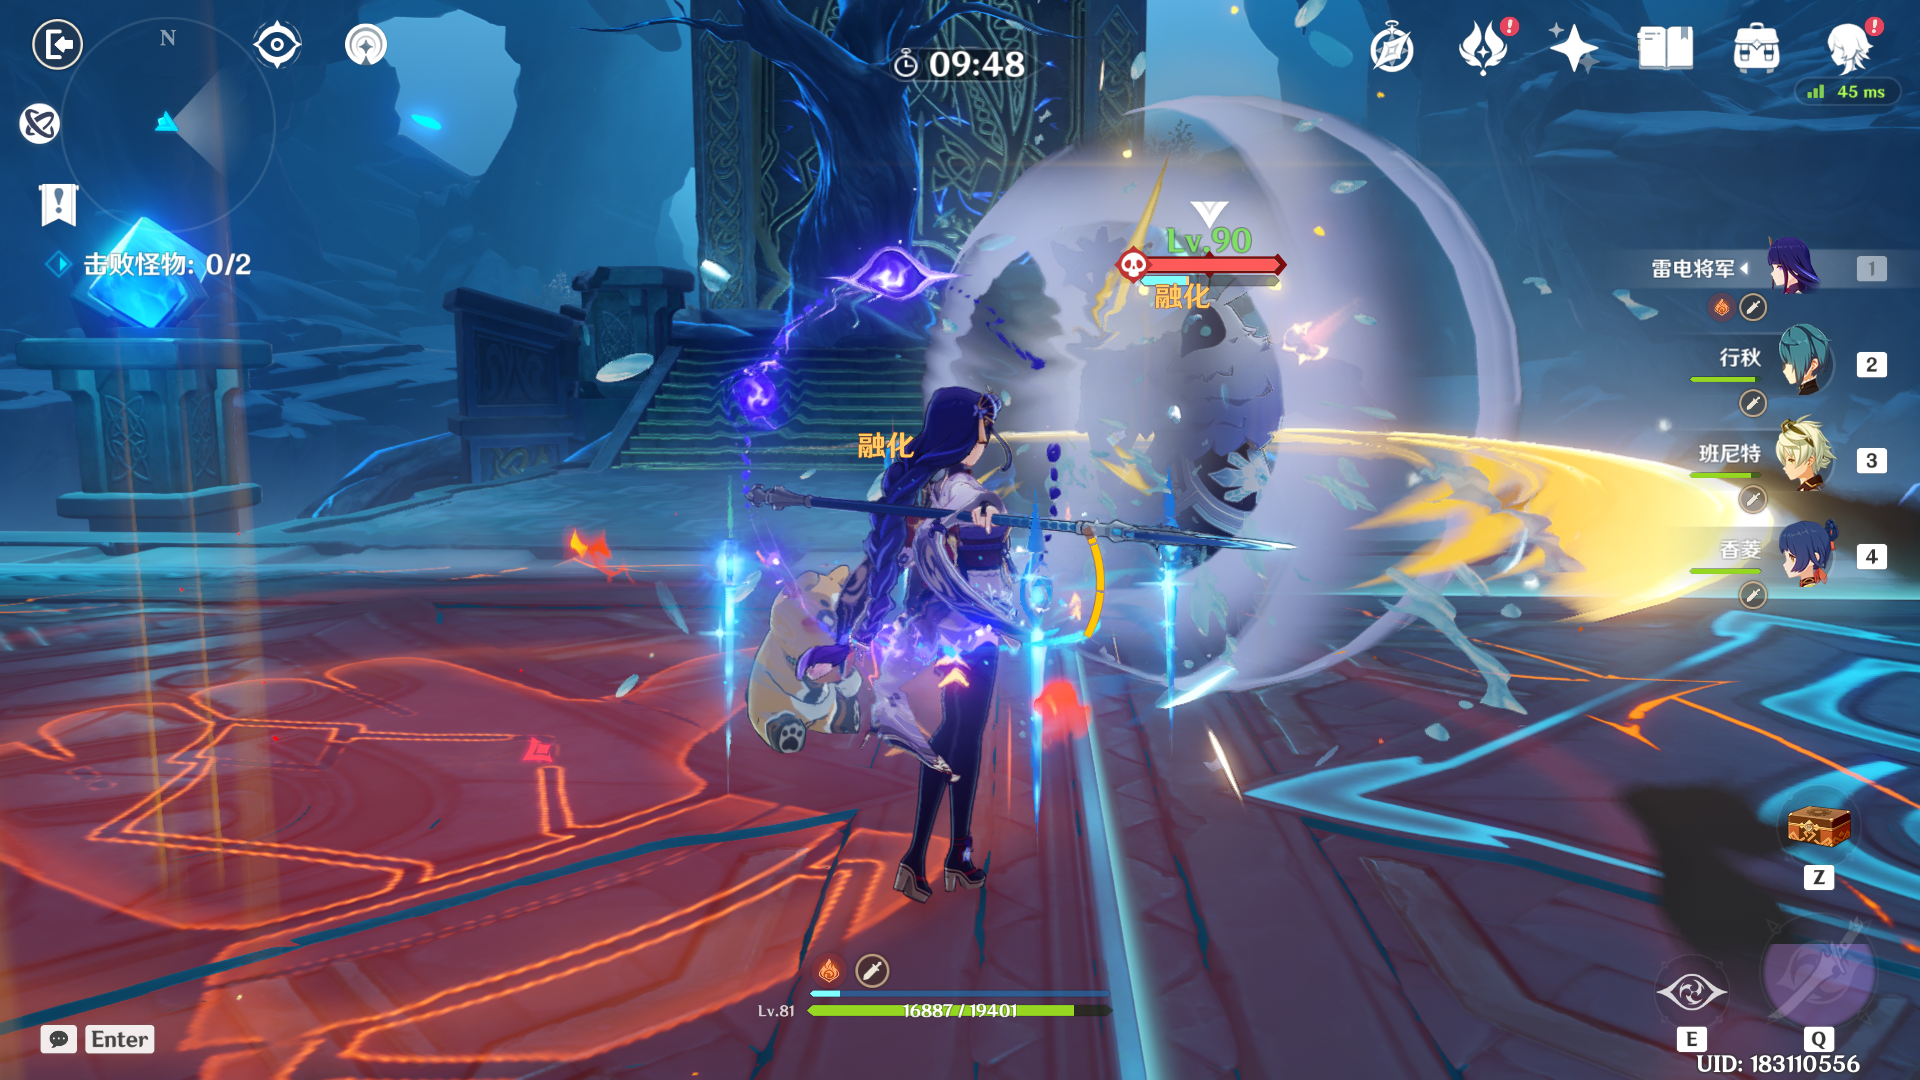caster: (1021, 206, 1379, 611)
character: (791, 353, 1063, 924)
